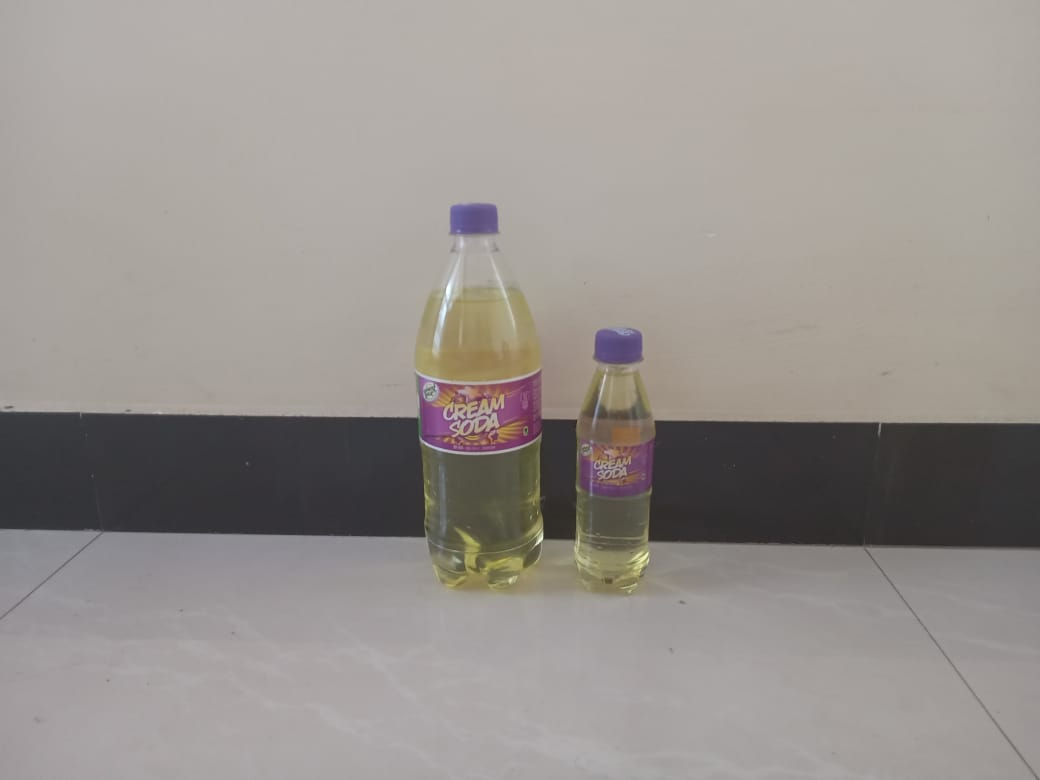M: (413, 201, 547, 591)
Xs: (573, 322, 657, 598)
